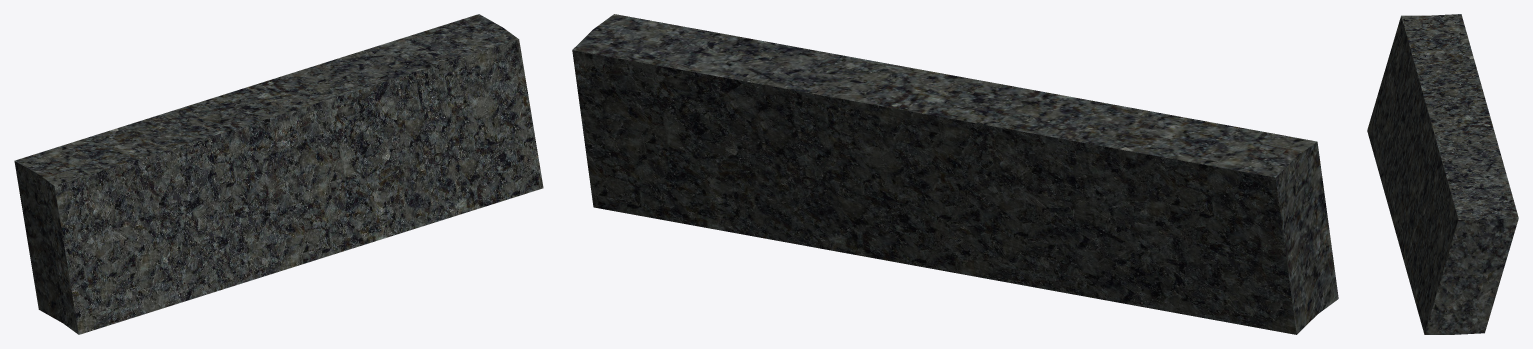
The model's file is main_bar_bench.fbx.
The picture shows the model from 3 angles, left to right: view 1: azimuth 30°, elevation 25°; view 2: azimuth 150°, elevation 25°; view 3: azimuth 270°, elevation 25°; orthographic projection. The views are drawn at different scales.
Parts seen in each view (by area): view 1: main_bar_bench; view 2: main_bar_bench; view 3: main_bar_bench.
Part boxes in pixels (x1,y1,x2,y2): main_bar_bench: [14, 14, 543, 334]; main_bar_bench: [572, 14, 1338, 334]; main_bar_bench: [1367, 14, 1518, 334].
Bounding box in the file's own units: 6.12 × 1.56 × 1.89.
1 material, 1 textured.
